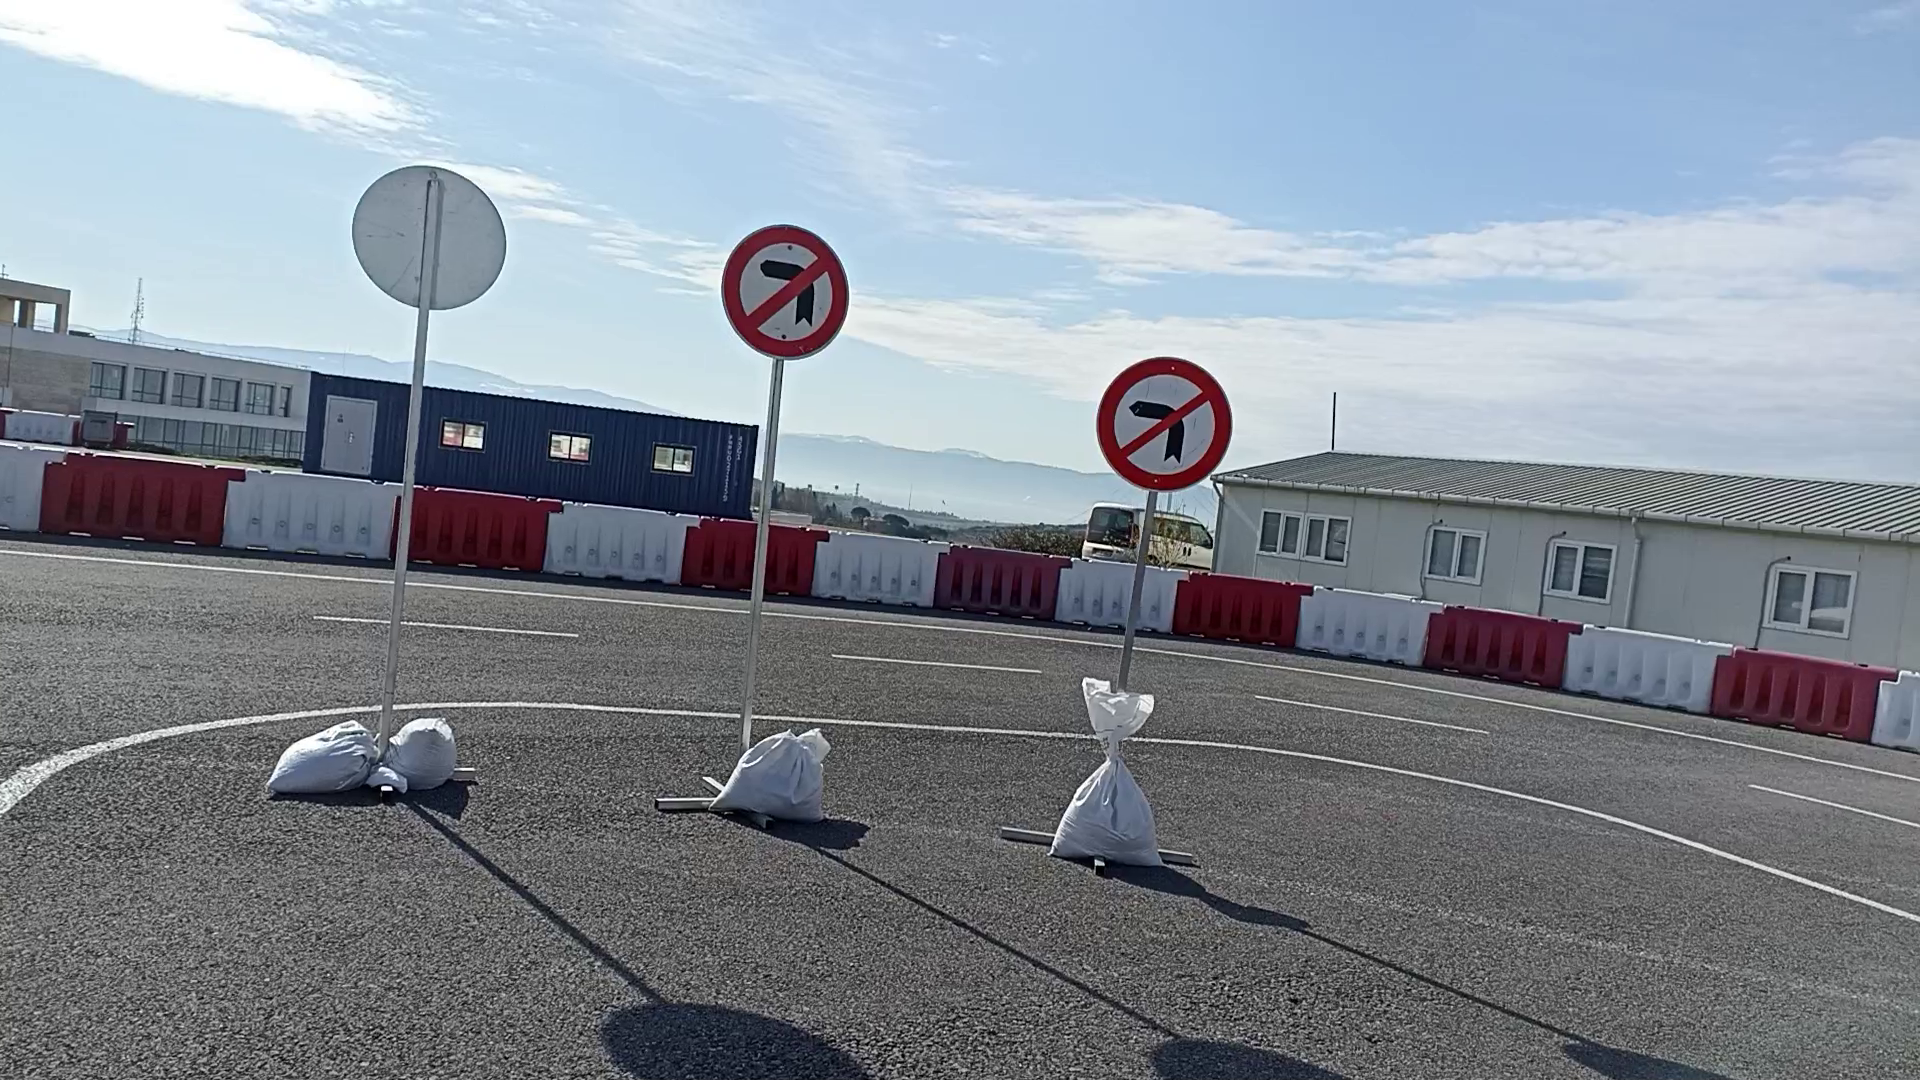noleft: (1093, 355, 1236, 495), (719, 218, 856, 363)
